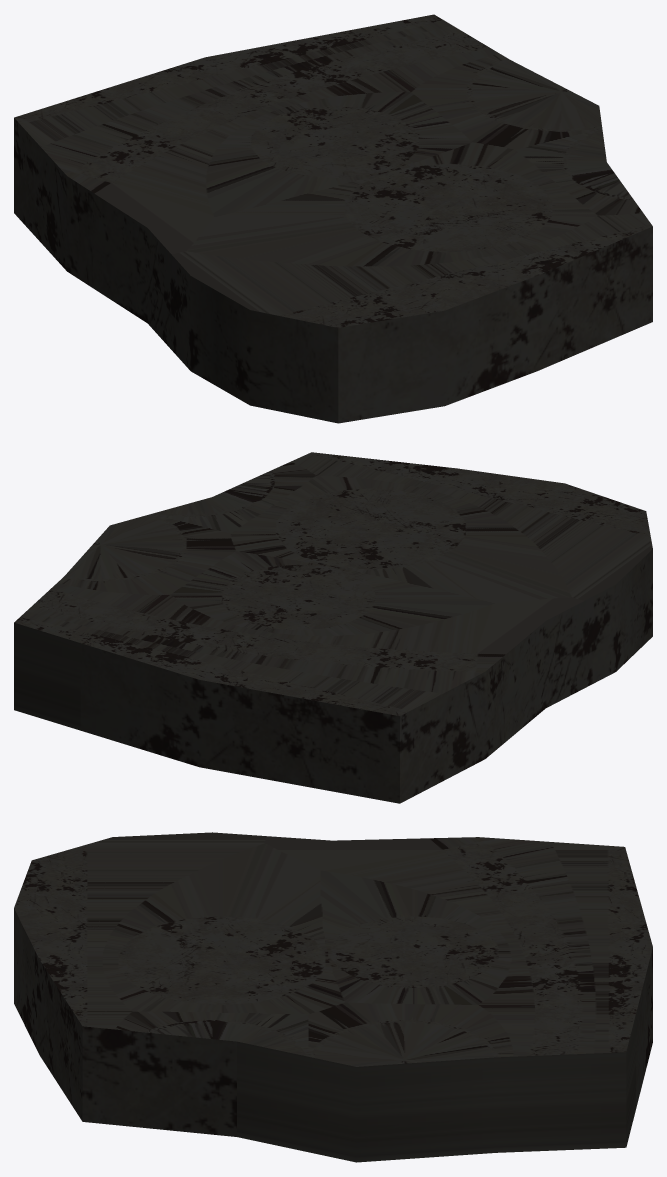
Rendered from Rubble07.FBX.
3 views of the same model, one above another, from view 1: azimuth 30°, elevation 25°; view 2: azimuth 150°, elevation 25°; view 3: azimuth 270°, elevation 25° (orthographic). The views are drawn at different scales.
Parts seen in each view (by area): view 1: Rubbles001; view 2: Rubbles001; view 3: Rubbles001.
Part boxes in pixels (x1,y1,x2,y2): Rubbles001: [14, 14, 652, 423]; Rubbles001: [14, 452, 652, 803]; Rubbles001: [14, 832, 652, 1162].
Bounding box in the file's own units: 9476 × 1800 × 10911.
